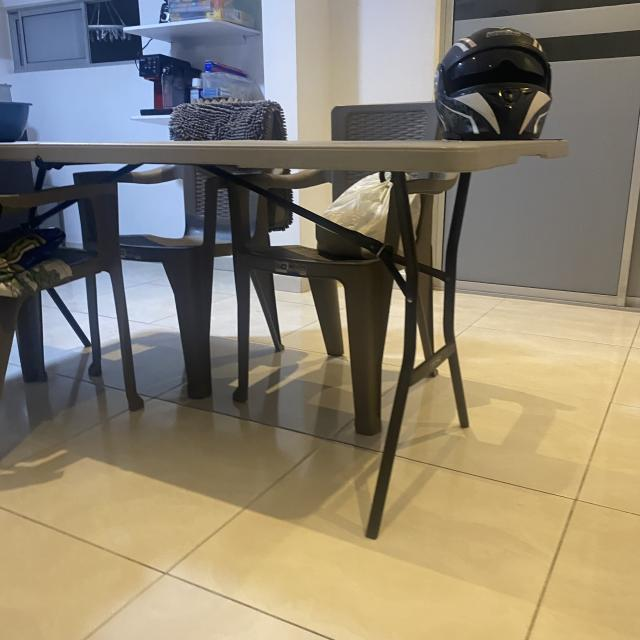obstacle: (0, 38, 571, 520)
